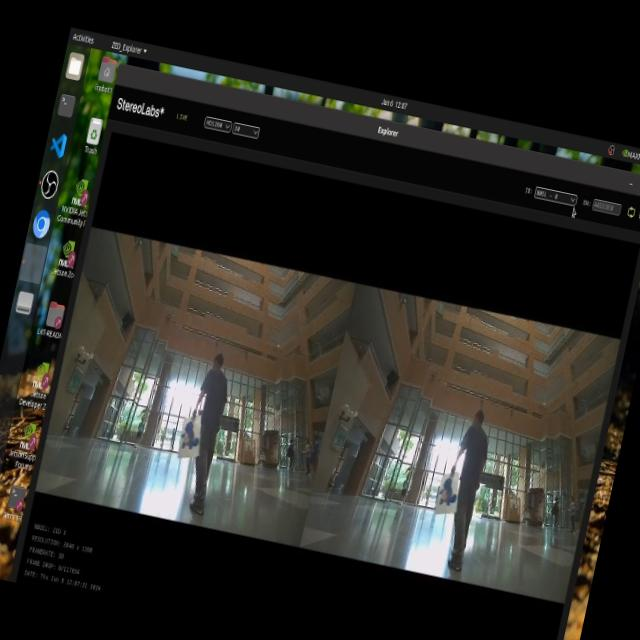blue: (174, 412, 207, 457), (432, 477, 462, 516)
